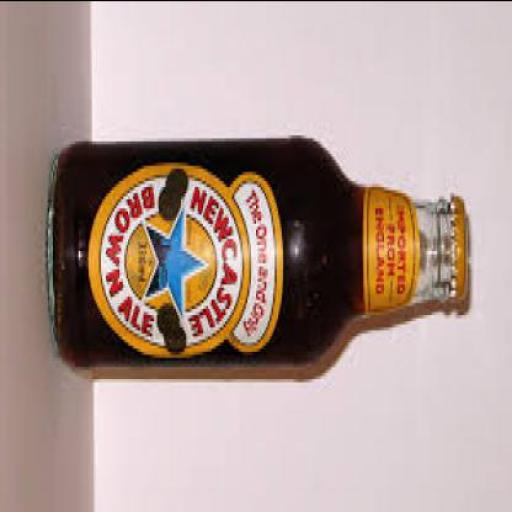glass: (48, 138, 454, 372)
metal: (457, 192, 471, 289)
